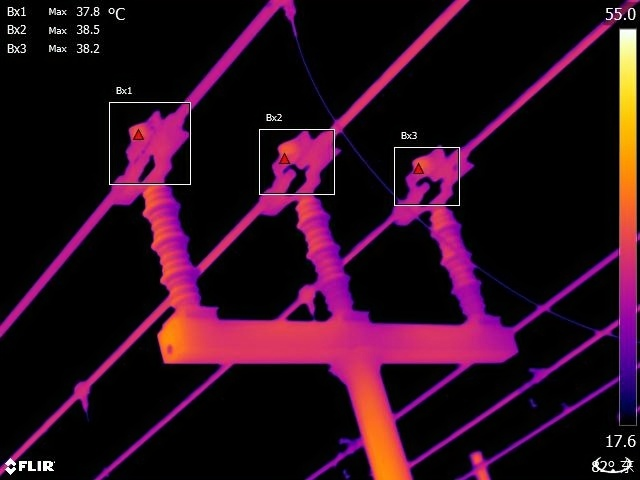clamp: (67, 358, 97, 424), (287, 277, 323, 319)
post insulator: (134, 174, 203, 313), (294, 188, 358, 314), (427, 199, 493, 312)
